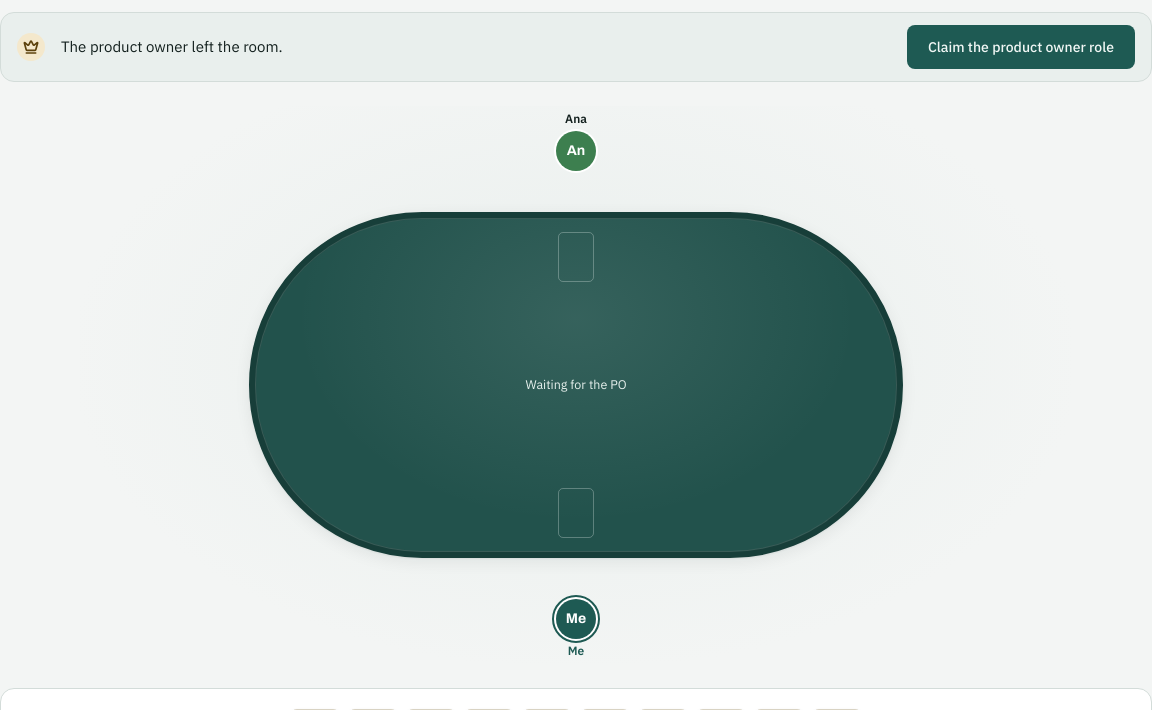
Test case: the claim banner › claims, and the new PO's subject field takes the focus
Click the button "Claim the product owner role" at coordinates (1021, 47), box [907,25,1135,69]
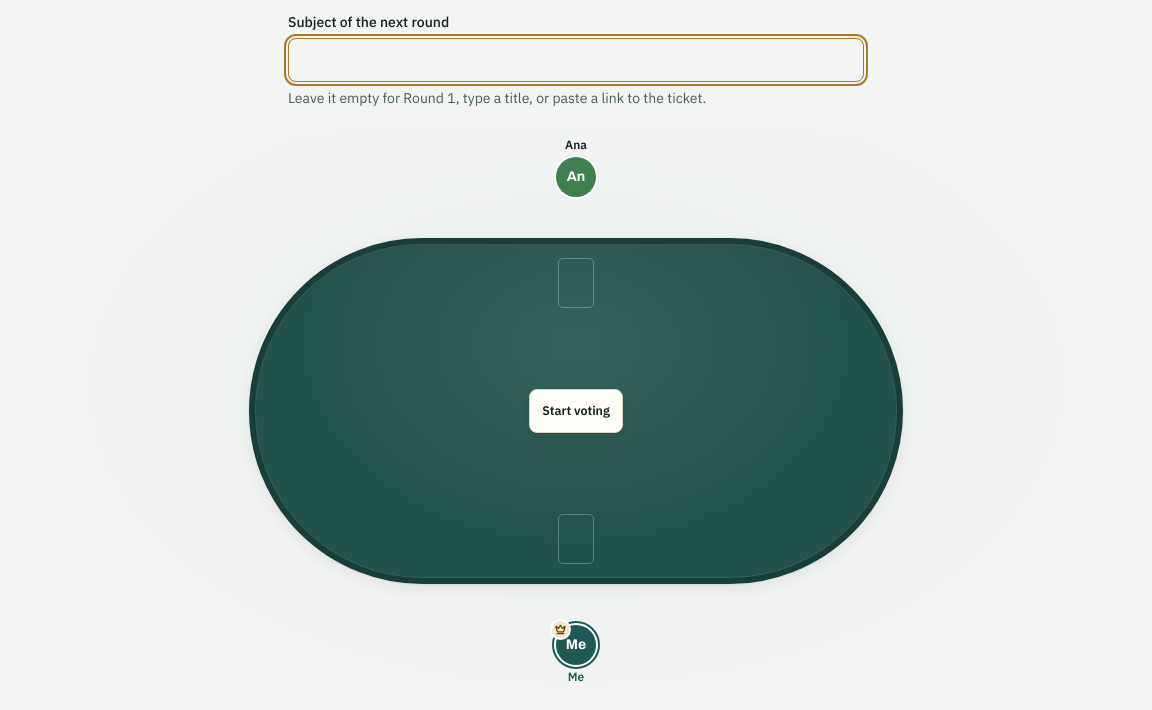
Check: the button "Claim the product owner role" is gone
